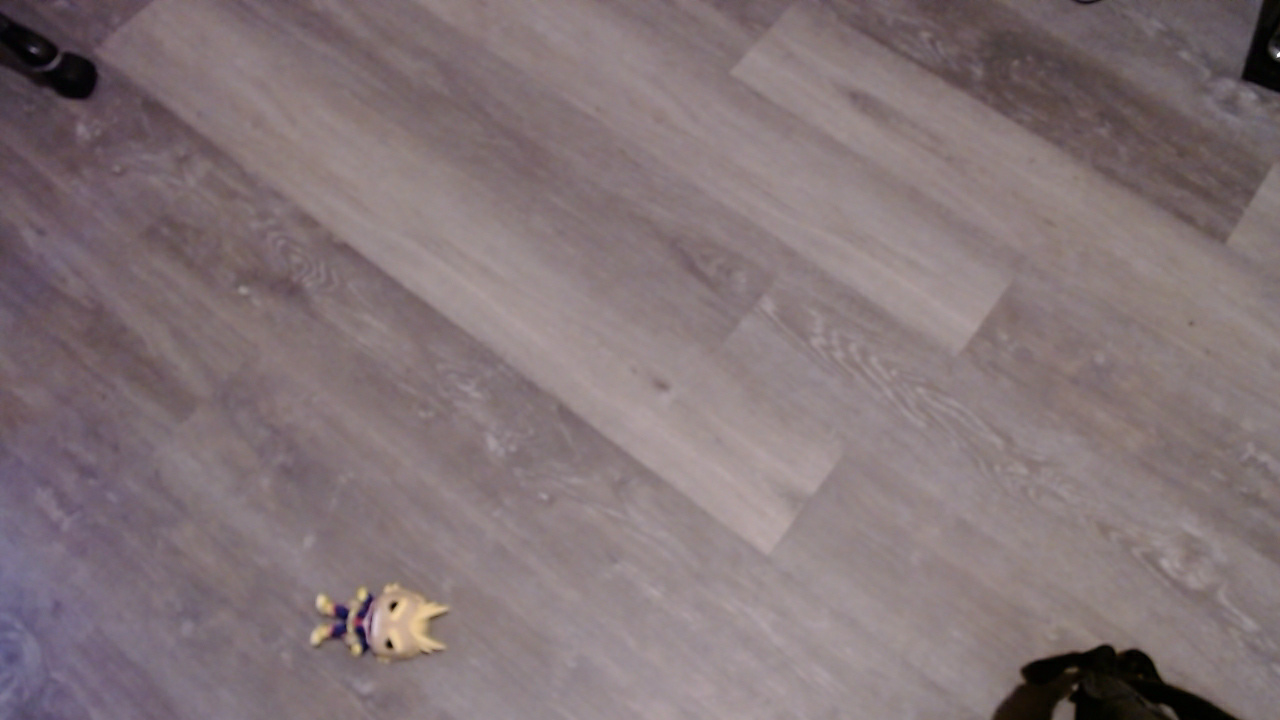all_might: (290, 586, 481, 671)
